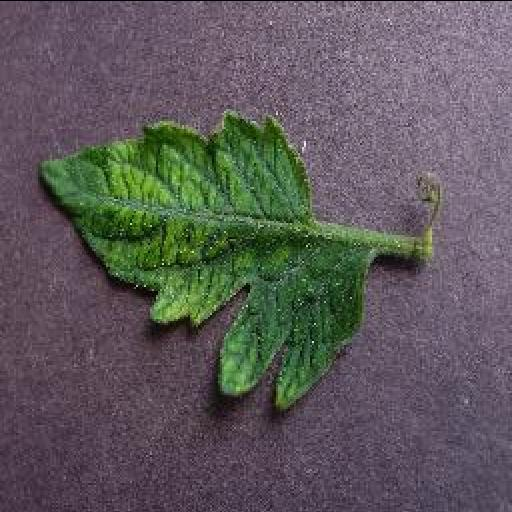disease_tomato: (32, 107, 376, 413)
